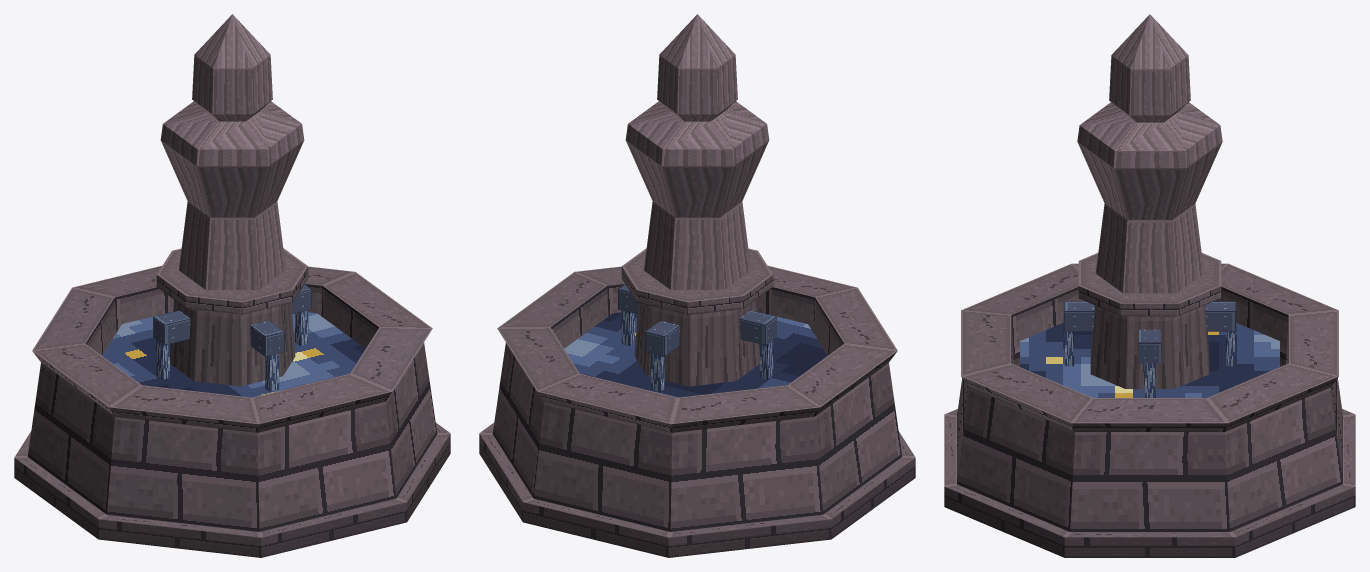
The model's file is brunnen_a3_bereit.glb.
3 renders of one model, left to right at view 1: azimuth 30°, elevation 25°; view 2: azimuth 150°, elevation 25°; view 3: azimuth 270°, elevation 25°, orthographic.
Visible parts, largest first — view 1: body, figure, pedestal, water_basin, spouts, falls; view 2: body, figure, pedestal, water_basin, spouts, falls; view 3: body, figure, pedestal, water_basin, spouts, falls.
Boxes of the visible parts, <box> form: body: <box>14,265,450,557</box>; figure: <box>160,14,304,289</box>; pedestal: <box>156,248,308,386</box>; water_basin: <box>102,312,365,397</box>; spouts: <box>153,284,311,356</box>; falls: <box>156,310,308,391</box>; body: <box>479,265,915,557</box>; figure: <box>625,14,769,289</box>; pedestal: <box>621,248,773,386</box>; water_basin: <box>564,312,827,397</box>; spouts: <box>618,284,776,356</box>; falls: <box>621,310,773,391</box>; body: <box>944,263,1355,557</box>; figure: <box>1077,14,1222,293</box>; pedestal: <box>1078,253,1221,388</box>; water_basin: <box>1020,323,1279,397</box>; spouts: <box>1063,301,1236,363</box>; falls: <box>1064,331,1235,397</box>.
Size of the model in its own units: 1.81 by 2.22 by 1.81.
Materials: 6 (6 with a texture image).
